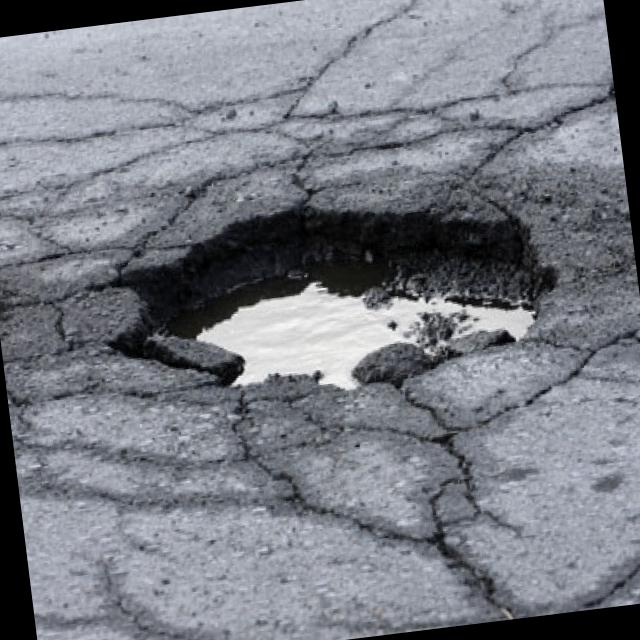bad-road: (79, 168, 572, 422)
